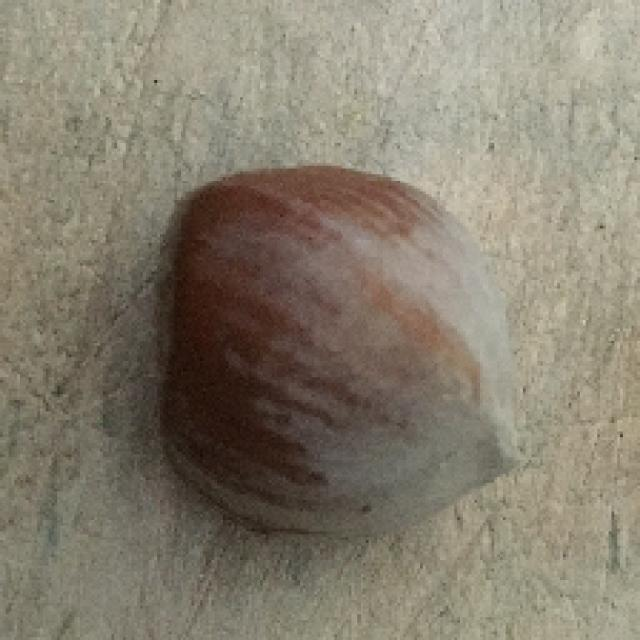qualityHazelnut: (154, 162, 524, 546)
